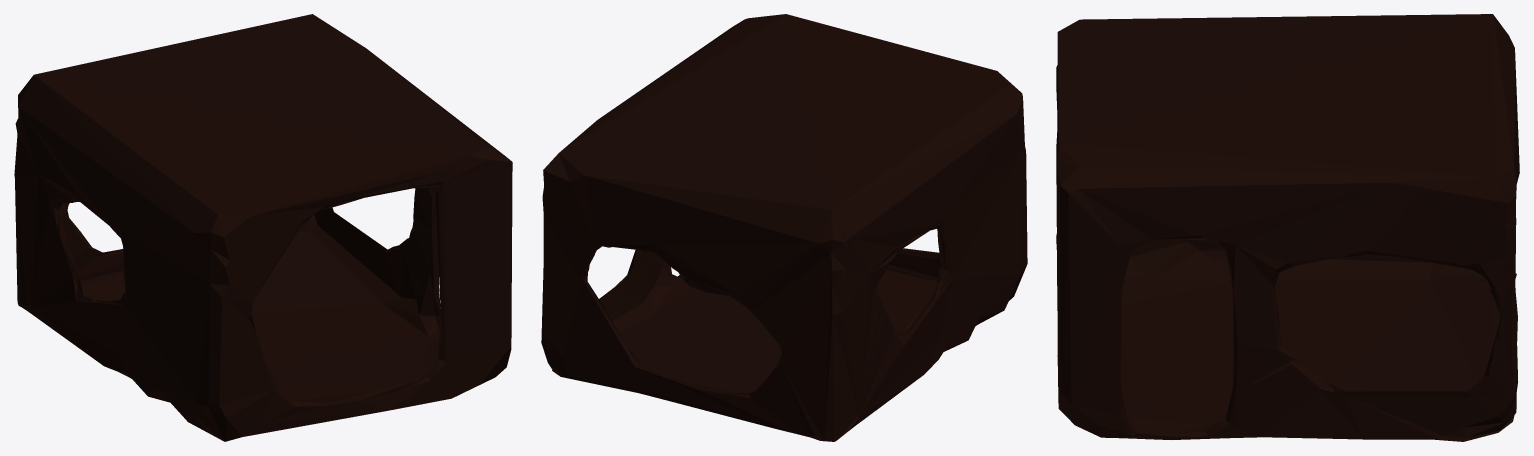
Rendered from casa.obj.
3 views of the same model, side by side, from view 1: azimuth 30°, elevation 25°; view 2: azimuth 150°, elevation 25°; view 3: azimuth 270°, elevation 25° (orthographic). The views are drawn at different scales.
Parts seen in each view (by area): view 1: casa_Cube; view 2: casa_Cube; view 3: casa_Cube.
Boxes of the visible parts, x1=… form: casa_Cube: x1=14, y1=14, x2=512, y2=441; casa_Cube: x1=541, y1=14, x2=1027, y2=441; casa_Cube: x1=1056, y1=14, x2=1519, y2=441.
Bounding box in the file's own units: 9.49 × 7.08 × 10.97.
